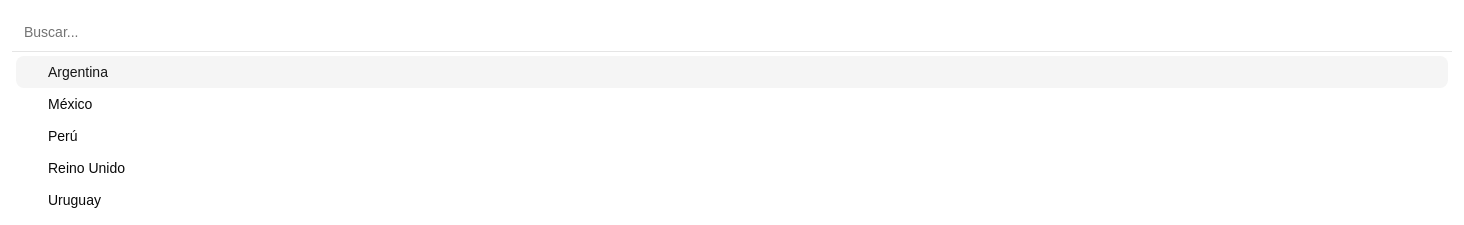
Test case: texts.noResults replaces the no-results message
The image size is (1464, 225).
Type "zzz" into the dropdown labelled "Buscar" at [732, 32], box [12,12,1452,52]
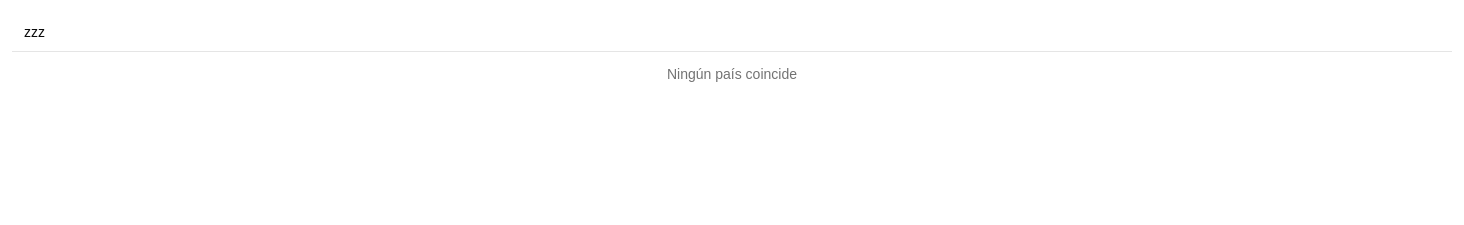
Expected: the message reads "Ningún país coincide", [667,66,797,82]
